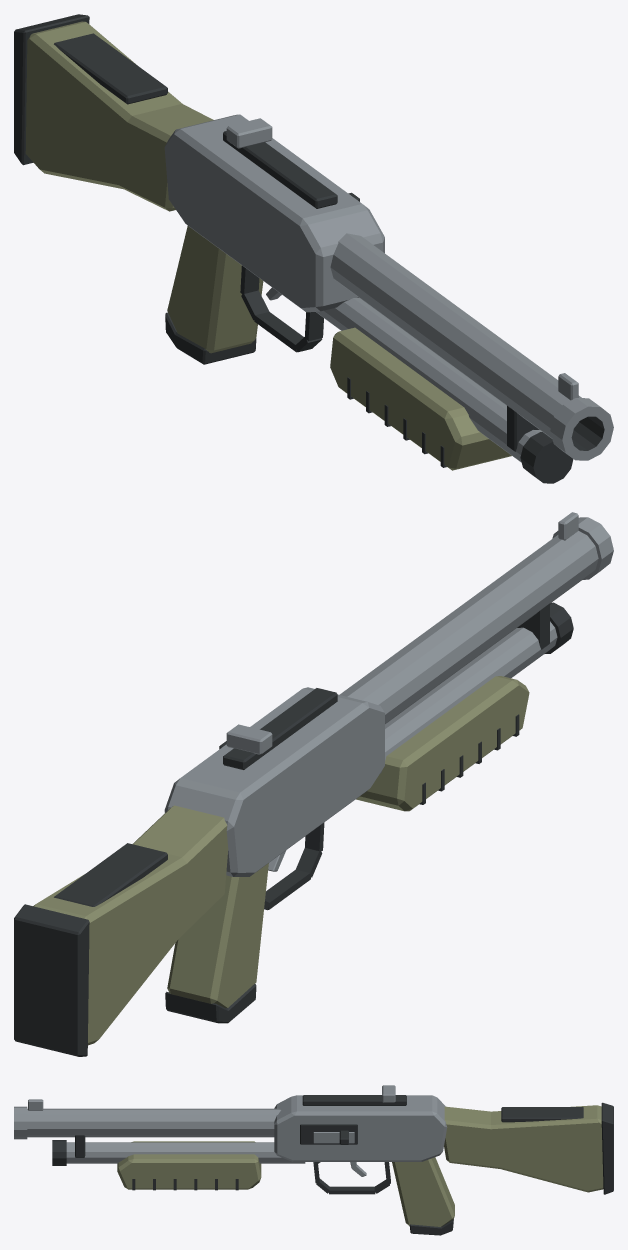
File: soldier-shotgun.glb
The picture shows the model from 3 angles, top to bottom: view 1: azimuth 30°, elevation 25°; view 2: azimuth 150°, elevation 25°; view 3: azimuth 270°, elevation 25°; orthographic projection. The views are drawn at different scales.
Visible parts, largest first — view 1: SoldierShotgun; view 2: SoldierShotgun; view 3: SoldierShotgun.
Boxes of the visible parts, box(x1,y1,x2,y2) form: SoldierShotgun: box(14, 14, 613, 483); SoldierShotgun: box(14, 512, 613, 1056); SoldierShotgun: box(14, 1085, 613, 1235).
Bounding box in the file's own units: 0.065 × 0.1485 × 0.581.
